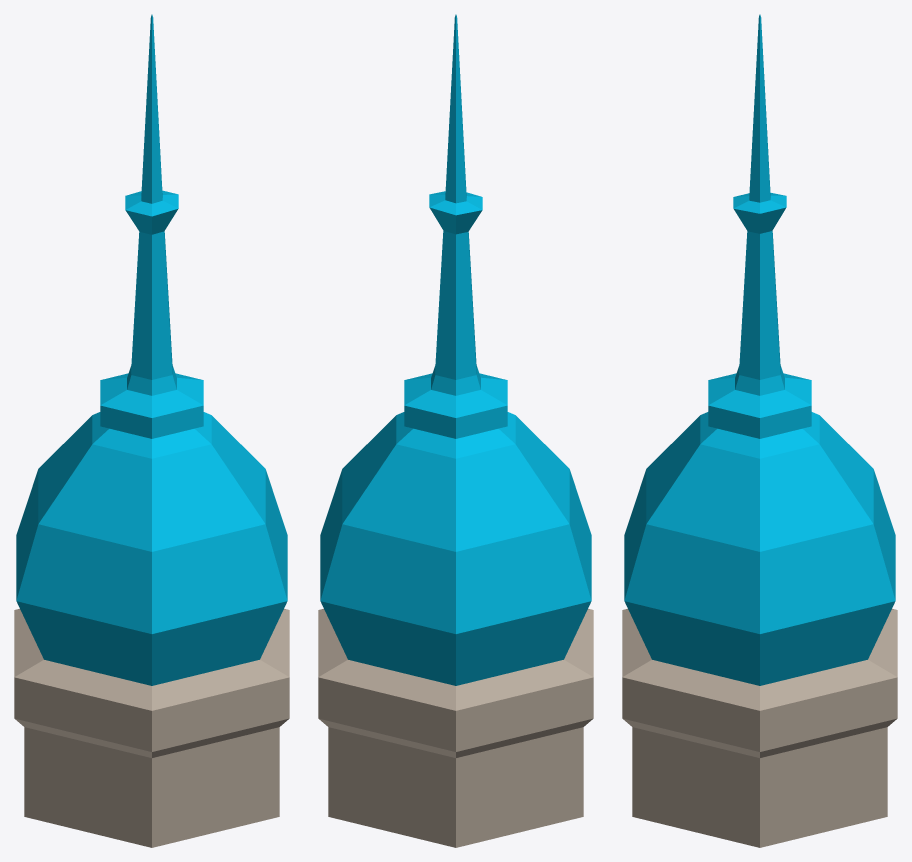
Rendered from SM_Bld_Roof_Cap_04.fbx.
3 views of the same model, side by side, from view 1: azimuth 30°, elevation 25°; view 2: azimuth 150°, elevation 25°; view 3: azimuth 270°, elevation 25° (orthographic).
Visible parts, largest first — view 1: SM_Bld_Roof_Cap_04; view 2: SM_Bld_Roof_Cap_04; view 3: SM_Bld_Roof_Cap_04.
Part boxes in pixels (box(x1,y1,x2,y2)): SM_Bld_Roof_Cap_04: box(14, 14, 289, 847); SM_Bld_Roof_Cap_04: box(318, 14, 593, 847); SM_Bld_Roof_Cap_04: box(622, 14, 897, 847).
Bounding box in the file's own units: 77.78 × 208 × 67.36.
